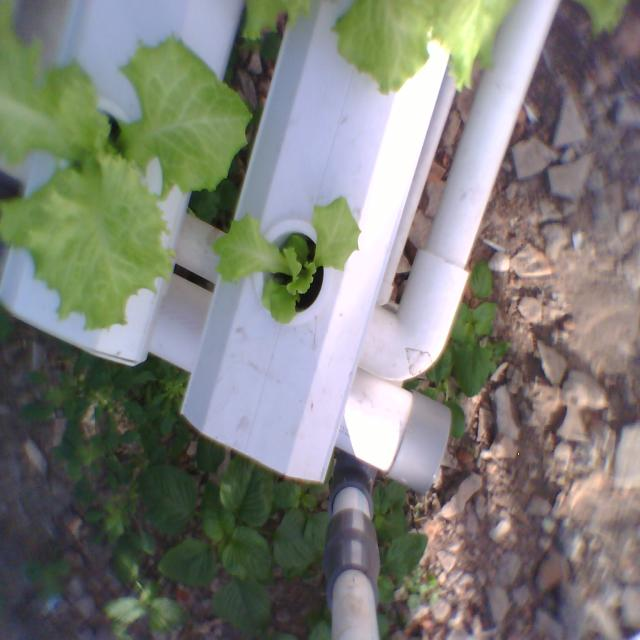FN: (0, 0, 257, 338), (207, 192, 367, 332)
